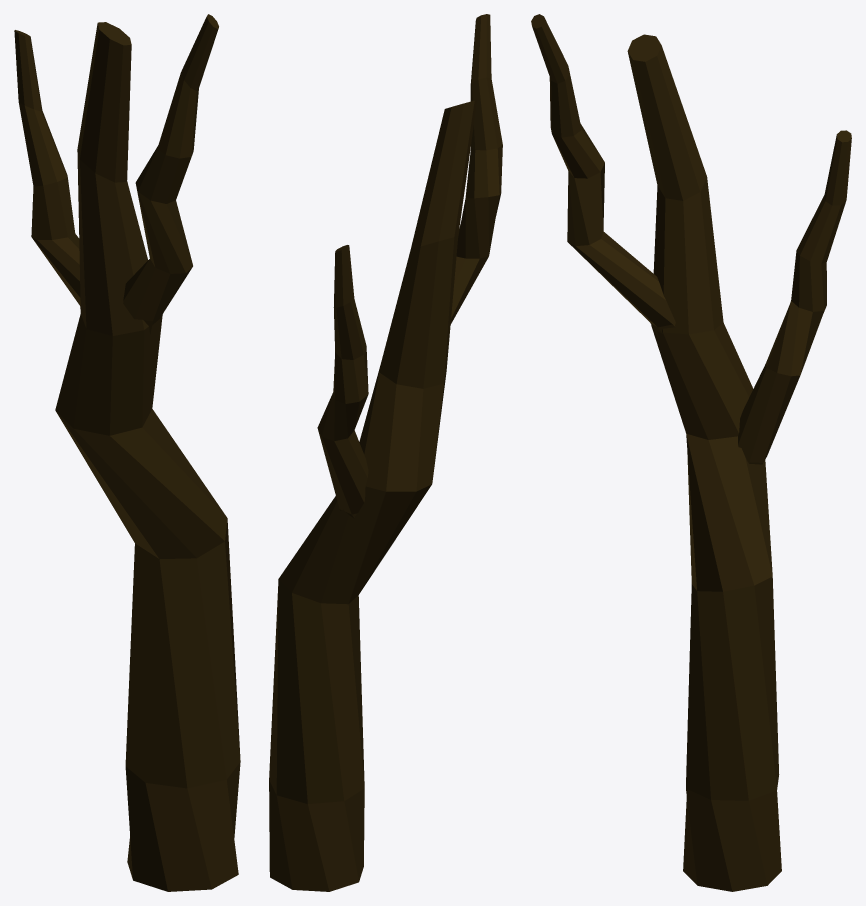
The model's file is HellTree2.fbx.
3 views of the same model, side by side, from view 1: azimuth 30°, elevation 25°; view 2: azimuth 150°, elevation 25°; view 3: azimuth 270°, elevation 25° (orthographic). The views are drawn at different scales.
Visible parts, largest first — view 1: deadtree; view 2: deadtree; view 3: deadtree.
Part boxes in pixels (box(x1,y1,x2,y2)): deadtree: box(14, 14, 240, 891); deadtree: box(269, 14, 502, 891); deadtree: box(531, 14, 851, 891).
Size of the model in its own units: 117 by 579 by 205.
